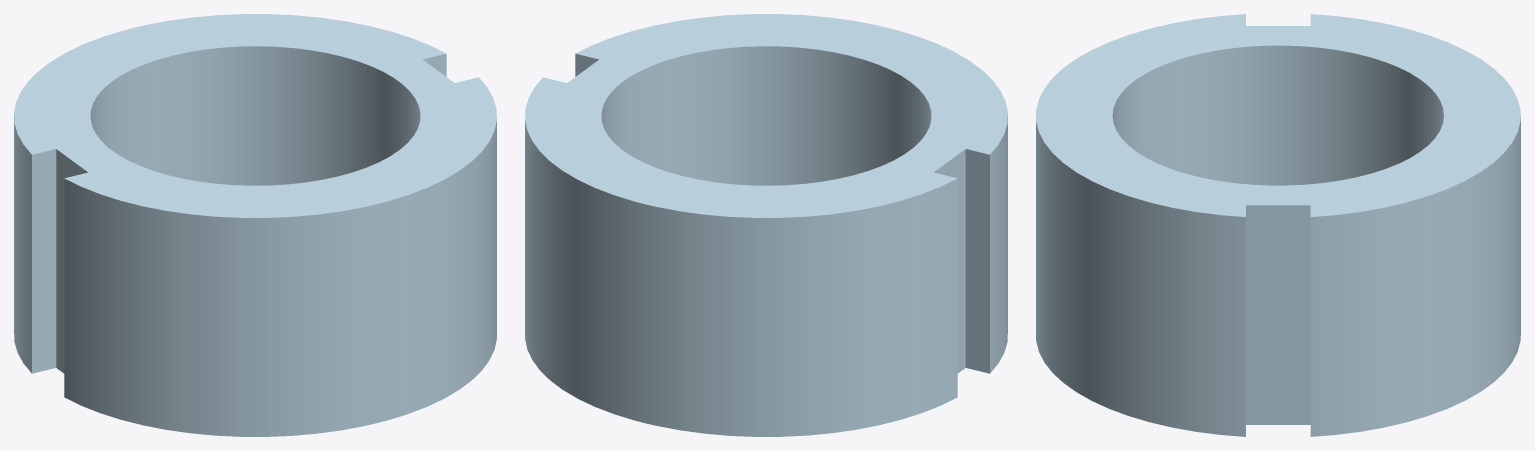
File: Bearing.gltf
The picture shows the model from 3 angles, left to right: view 1: azimuth 30°, elevation 25°; view 2: azimuth 150°, elevation 25°; view 3: azimuth 270°, elevation 25°; orthographic projection.
Visible parts, largest first — view 1: Part 1; view 2: Part 1; view 3: Part 1.
Part boxes in pixels (x1,y1,x2,y2): Part 1: [14, 14, 496, 436]; Part 1: [525, 14, 1007, 436]; Part 1: [1036, 14, 1520, 436].
Bounding box in the file's own units: 0.0297 × 0.015 × 0.03.
